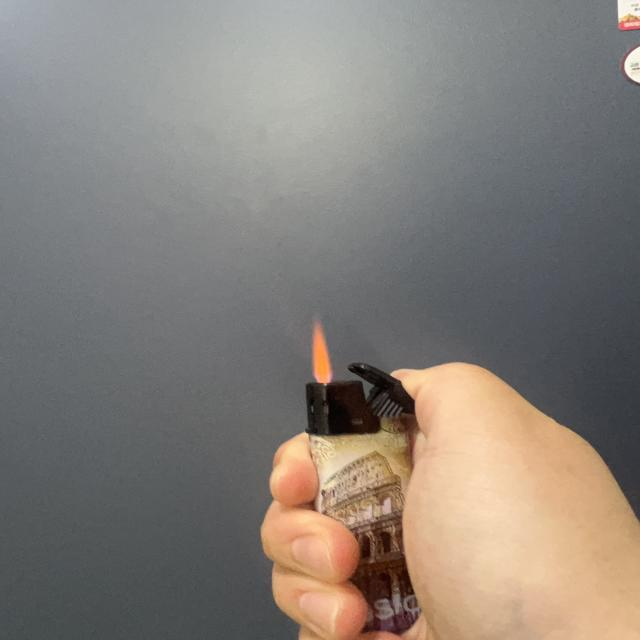fire: (308, 318, 338, 386)
